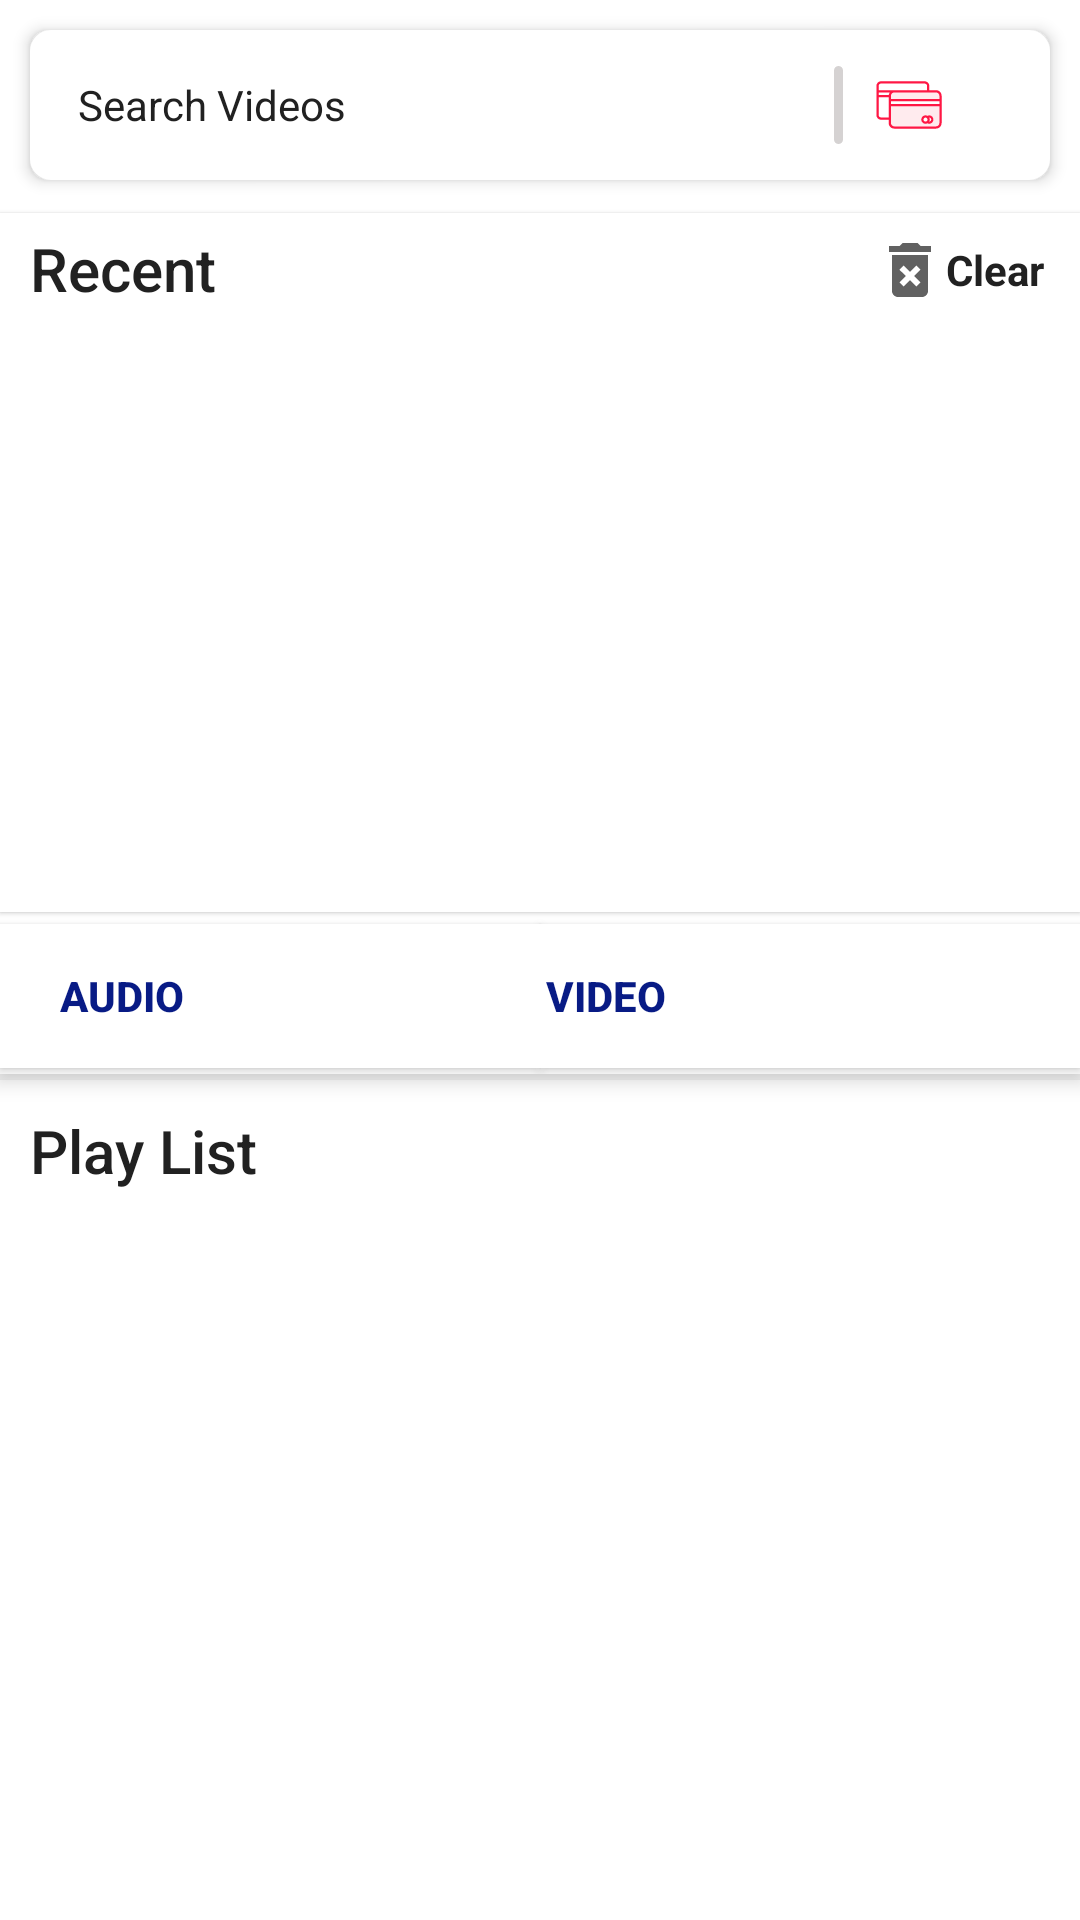

Point at icon controls on the screen. Image size 1080 × 1920, points as point (x, y).
credit card: point (909, 105)
